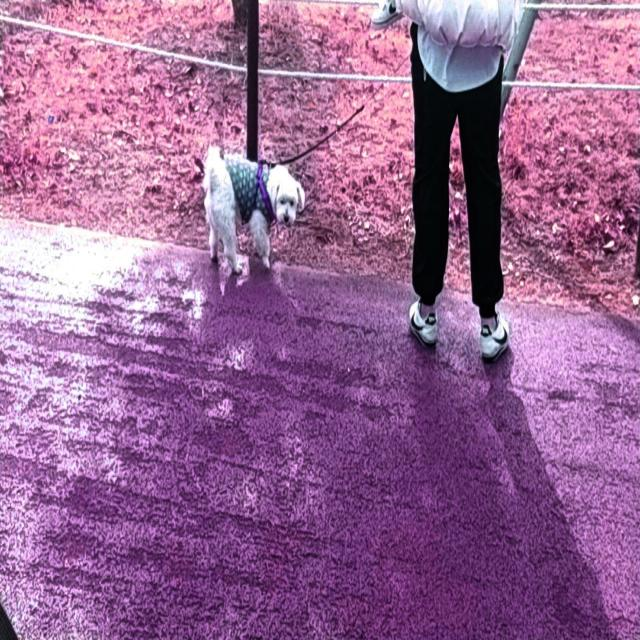Leashed_Dog: (203, 32, 455, 276)
